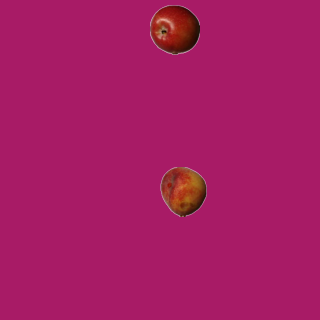Apple Braeburn: (149, 4, 199, 54)
Peach: (158, 166, 208, 216)
